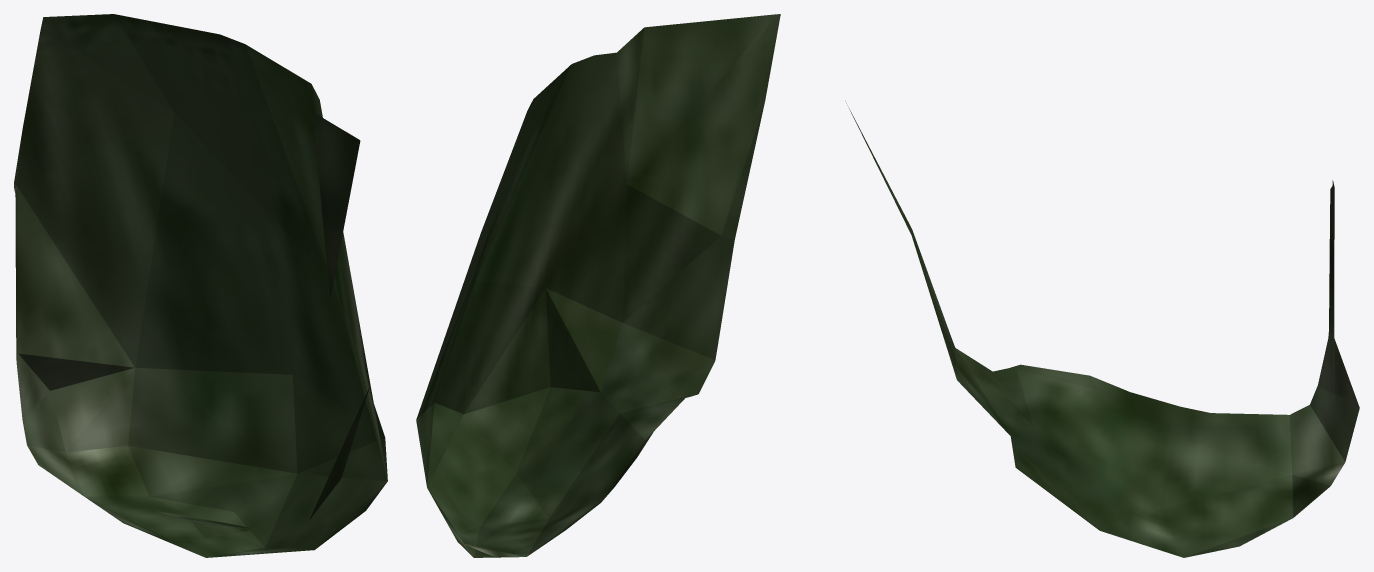
3 renders of one model, left to right at view 1: azimuth 30°, elevation 25°; view 2: azimuth 150°, elevation 25°; view 3: azimuth 270°, elevation 25°, orthographic. The views are drawn at different scales.
Size of the model in its own units: 0.7299 by 1.45 by 1.53.
Materials: 1 (1 with a texture image).
